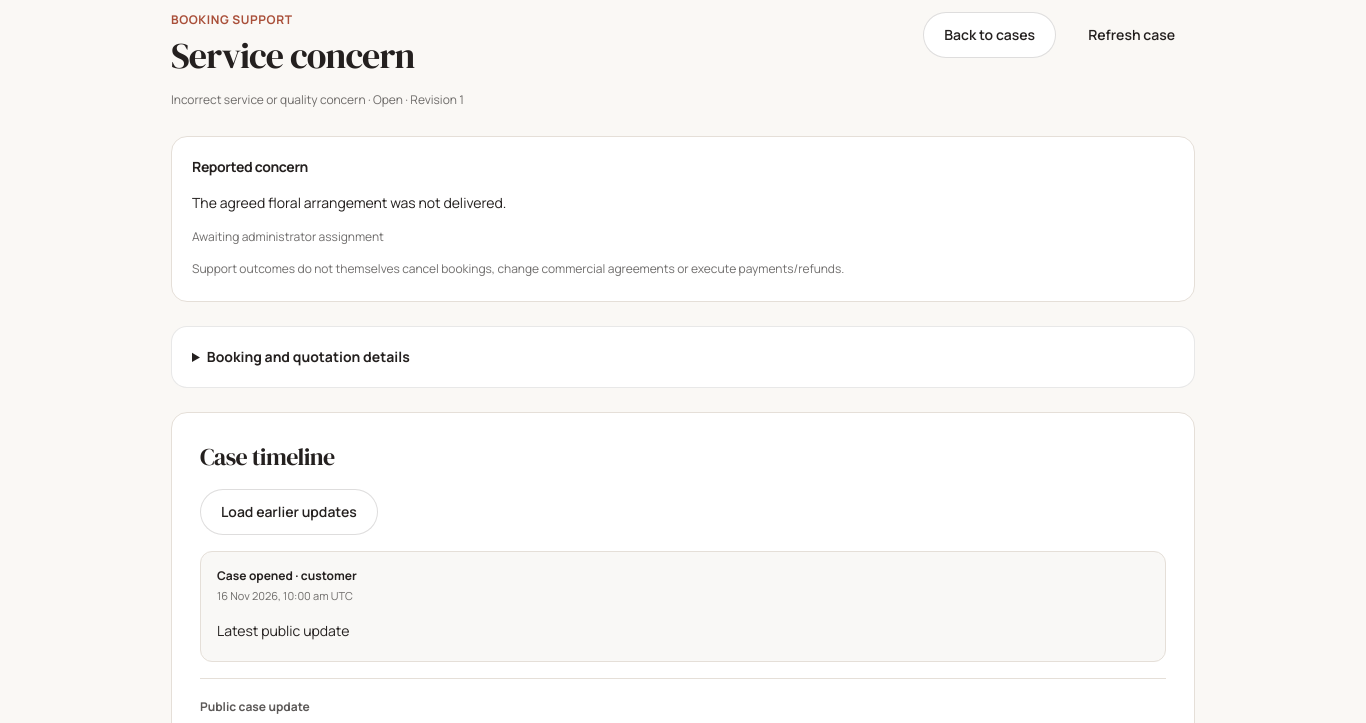
booking support interfaces › paginates only the public case timeline and keeps chronological history
Click the button "Load earlier updates": (289, 512) top-left (200, 489), bottom-right (378, 535)
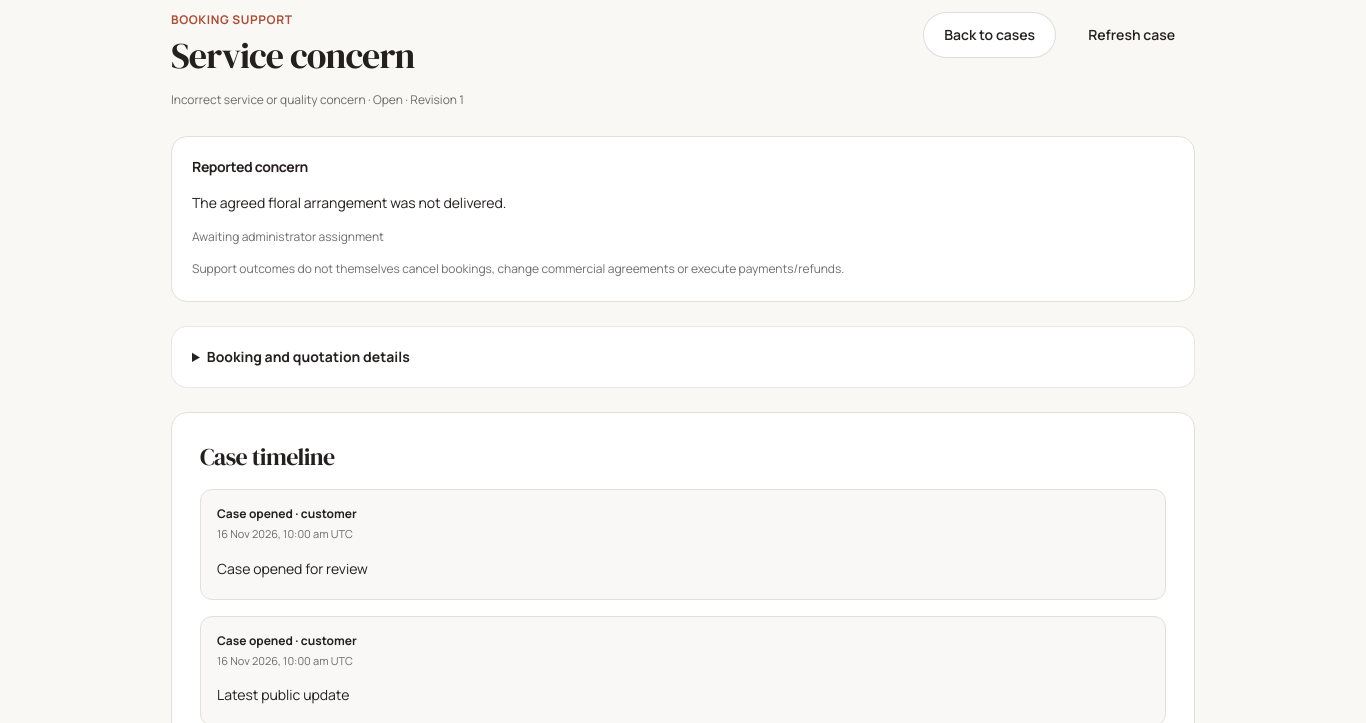
Result: the text "Case opened for review" is shown at top-left (217, 558), bottom-right (368, 578)
Result: the button "Load earlier updates" is gone
